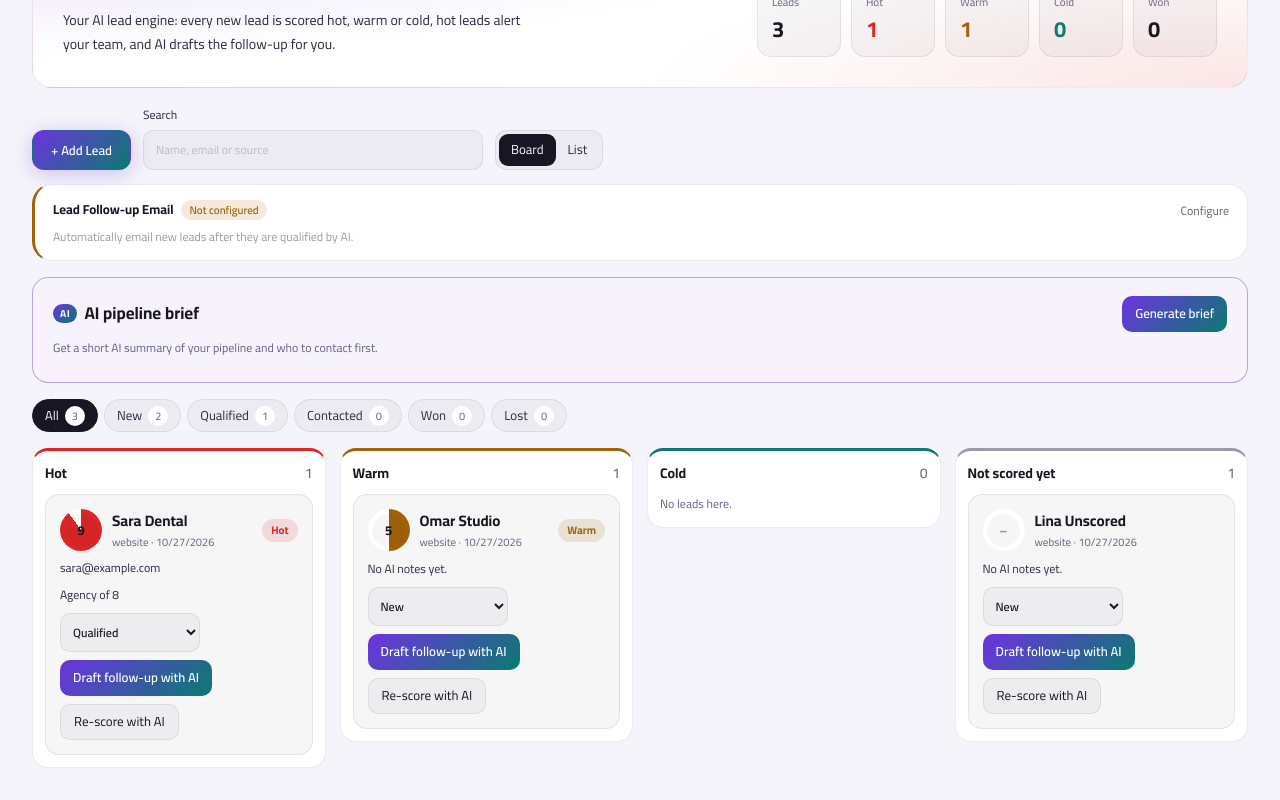
Test case: LeadsPage — AI › drafts a follow-up with AI in an editable panel and never sends it
(page scrolled)
Click the button "Draft follow-up with AI" below "Agency of 8" at (136, 678), box [60,660,212,696]
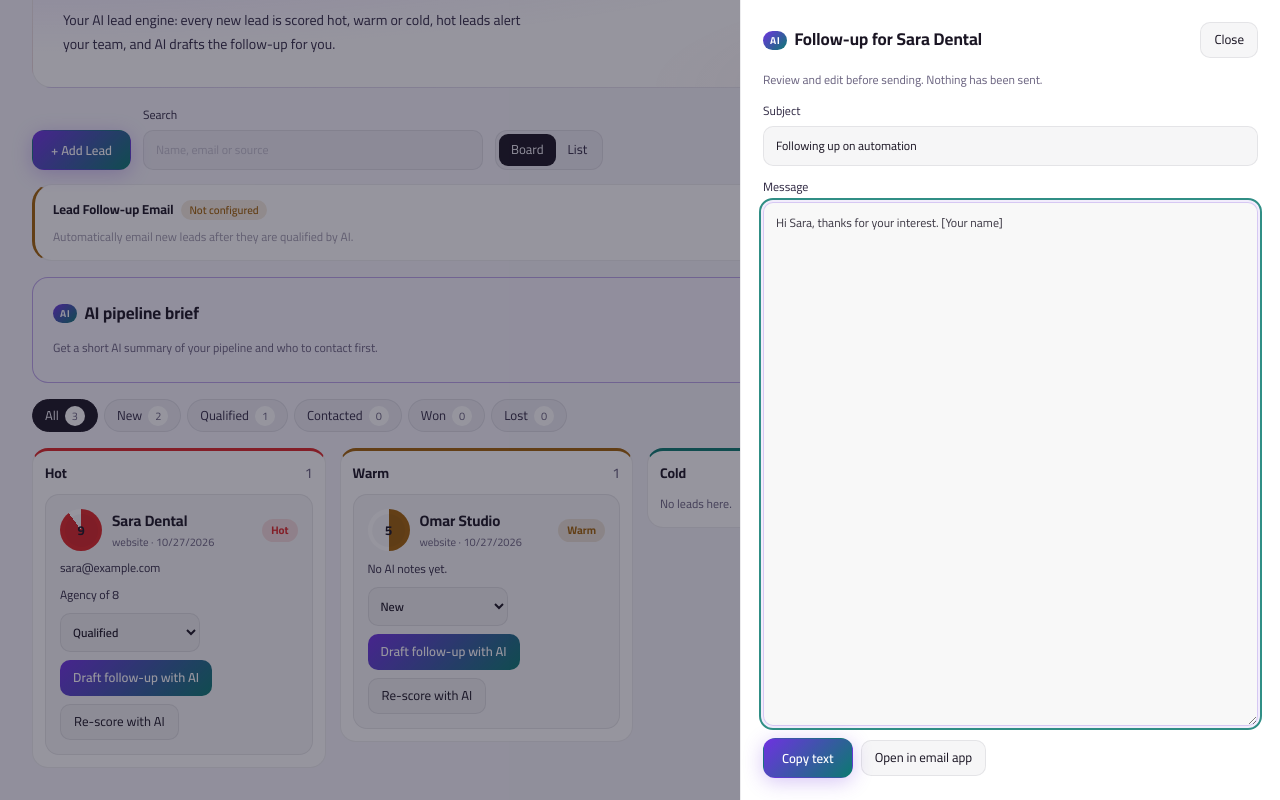
Expected: the field labelled "Subject" holds "Following up on automation", [763,126,1258,166]
Expected: the text box labelled "Message" holds "Hi Sara, thanks for your interest. [Your name]", [763,202,1258,726]
Expected: the dialog "Follow-up for Sara Dental" shows "Nothing has been sent", [763,68,1042,91]
Press Escape
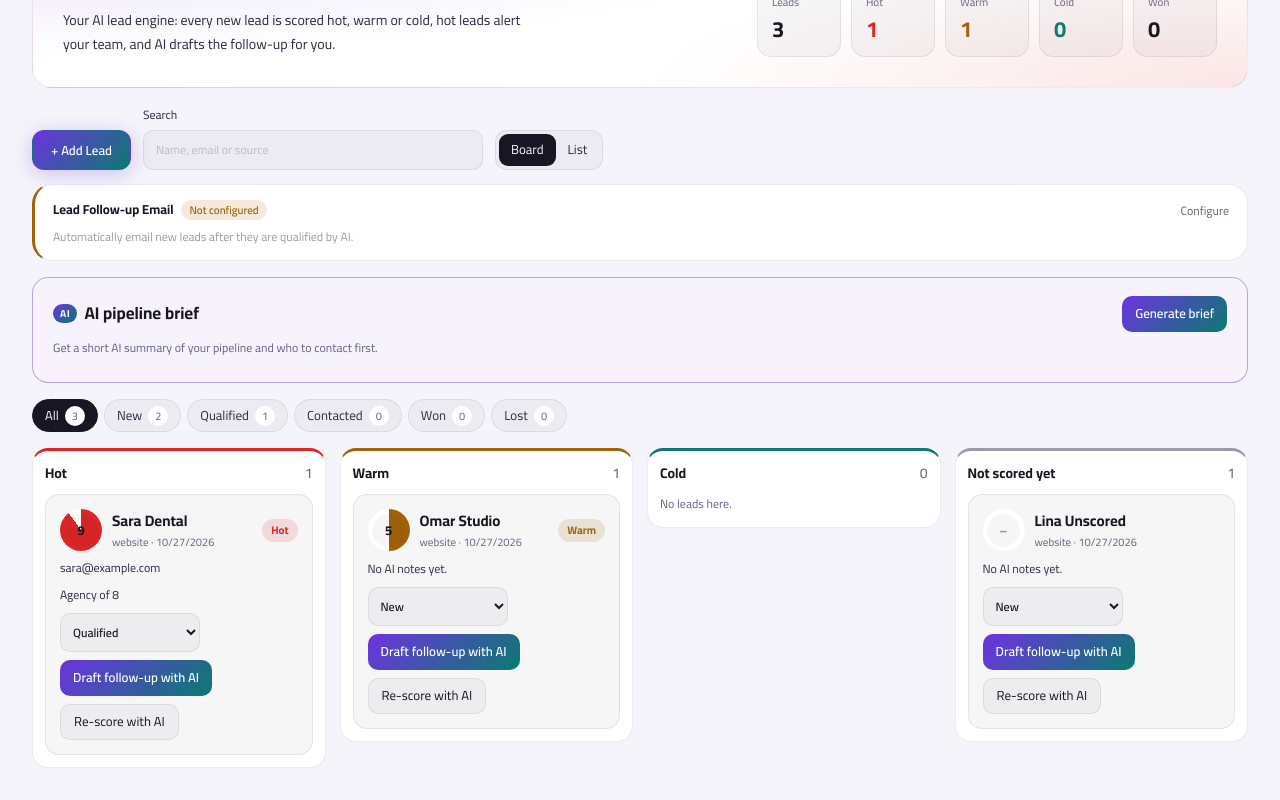
Expected: the dialog is gone
